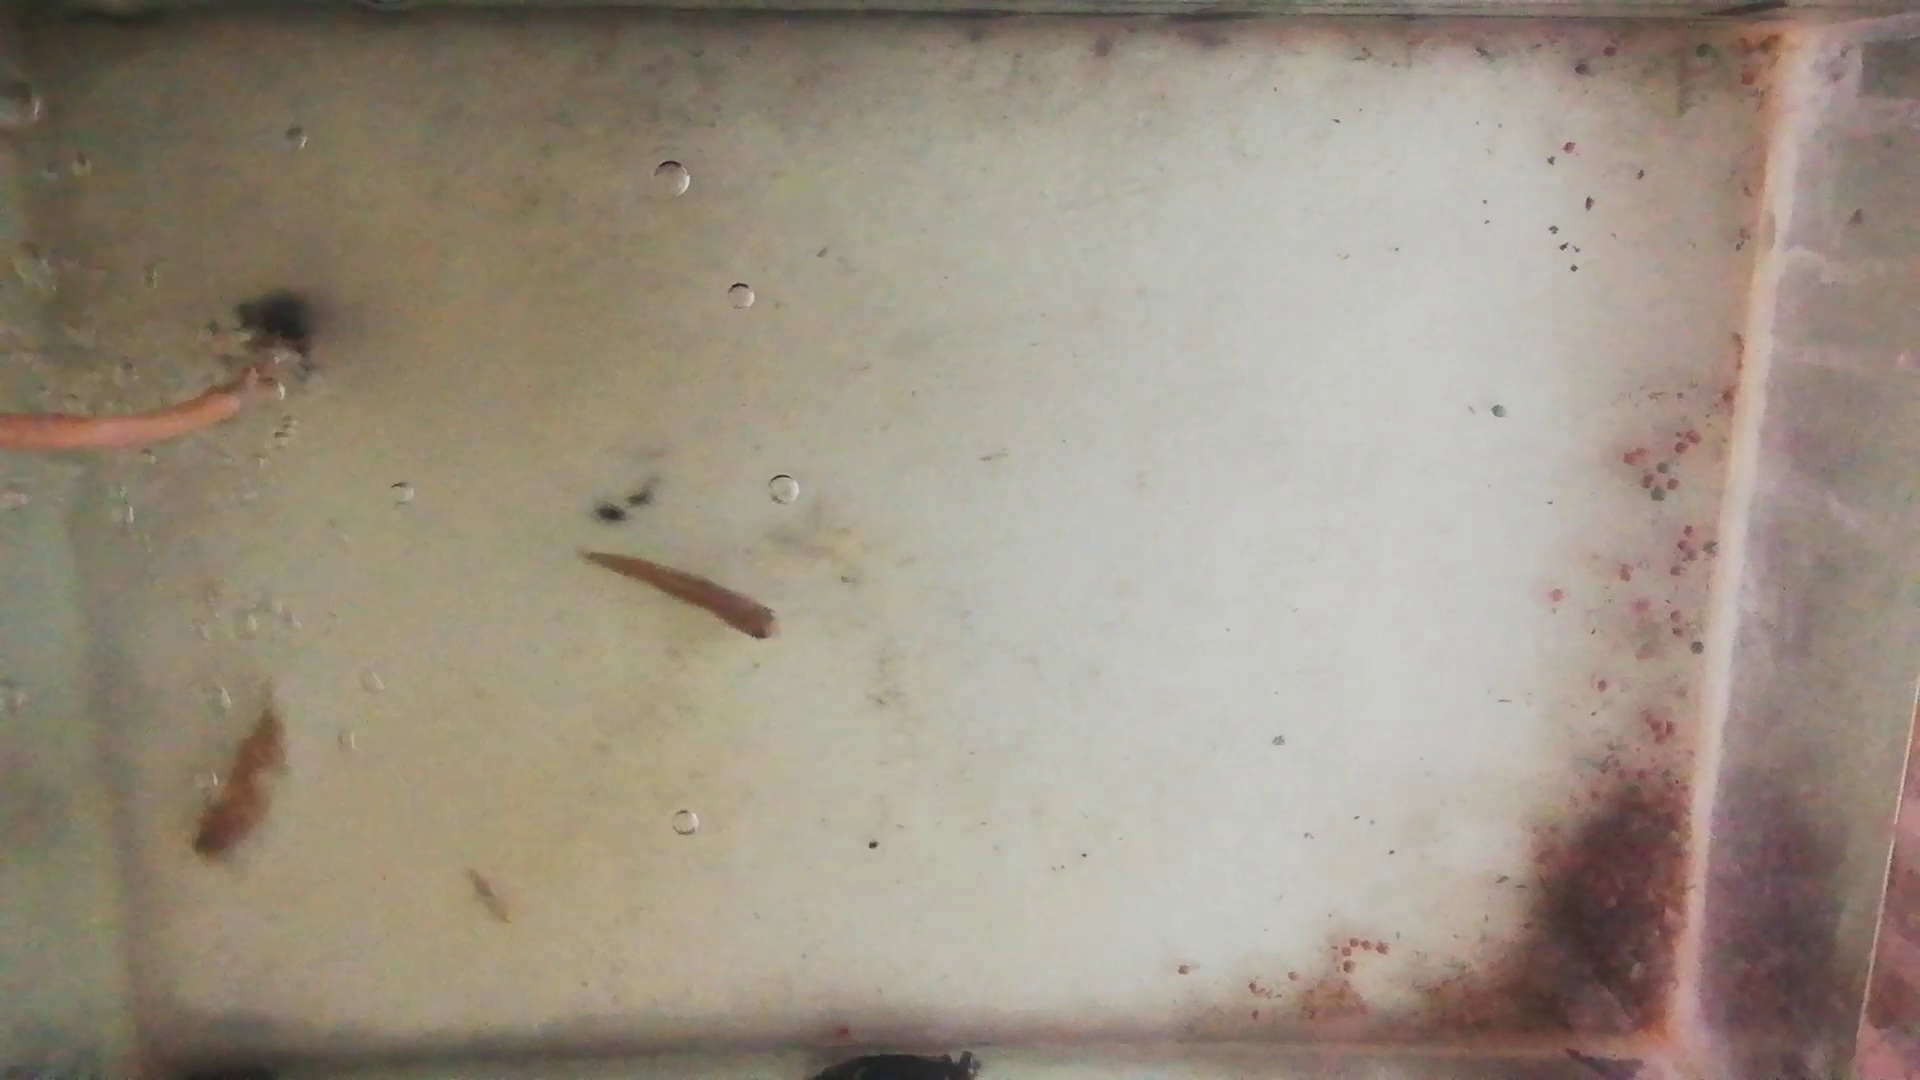fish: (583, 553, 778, 646), (189, 692, 295, 860)
